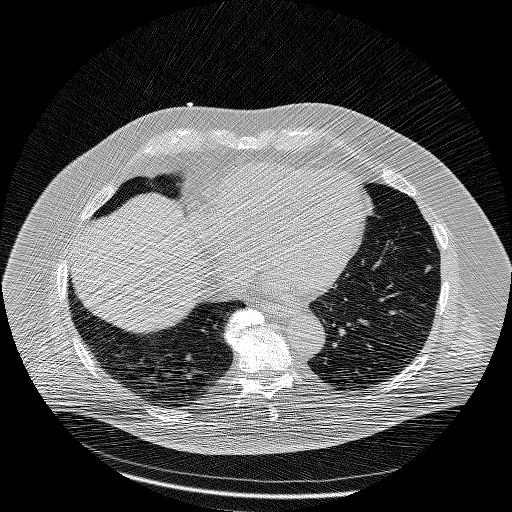nodule: (423, 264, 433, 274)
